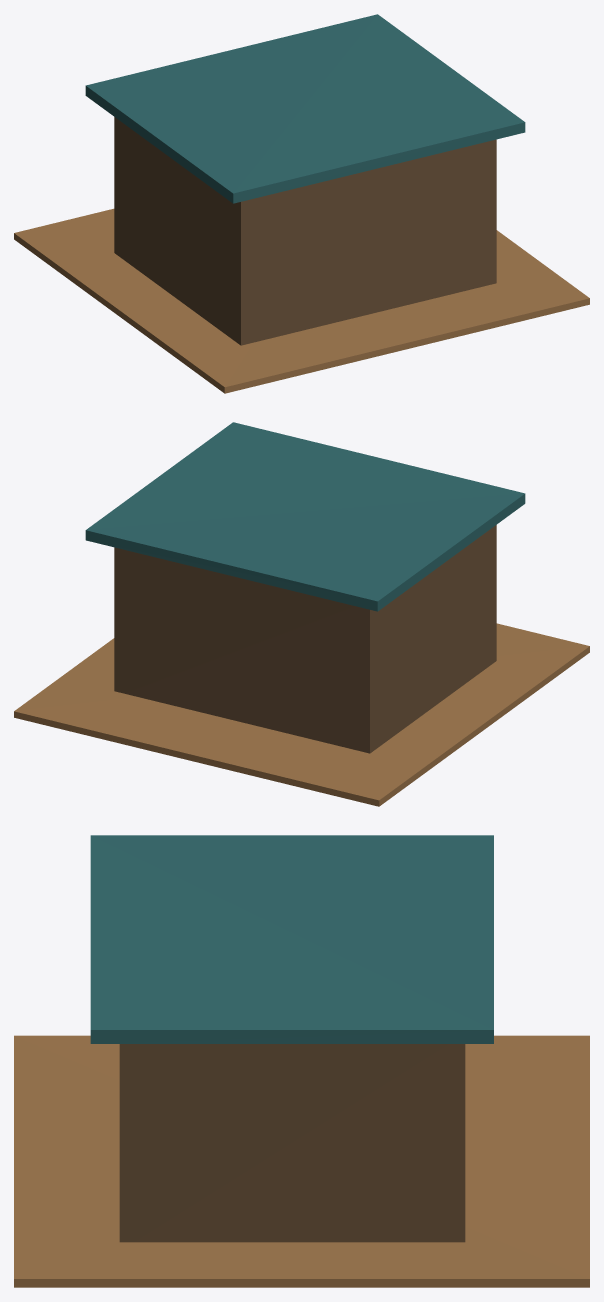
The model's file is Coastal-warehouse.glb.
3 renders of one model, top to bottom at view 1: azimuth 30°, elevation 25°; view 2: azimuth 150°, elevation 25°; view 3: azimuth 270°, elevation 25°, orthographic. The views are drawn at different scales.
Visible parts, largest first — view 1: coastal-warehouse-static-coastal-warehouse-wall, coastal-warehouse-static-coastal-warehouse-teal, coastal-warehouse-static-coastal-warehouse-earth; view 2: coastal-warehouse-static-coastal-warehouse-wall, coastal-warehouse-static-coastal-warehouse-teal, coastal-warehouse-static-coastal-warehouse-earth; view 3: coastal-warehouse-static-coastal-warehouse-teal, coastal-warehouse-static-coastal-warehouse-earth, coastal-warehouse-static-coastal-warehouse-wall.
Boxes of the visible parts, <box> form: coastal-warehouse-static-coastal-warehouse-wall: <box>114,117,496,345</box>; coastal-warehouse-static-coastal-warehouse-teal: <box>85,14,525,203</box>; coastal-warehouse-static-coastal-warehouse-earth: <box>14,208,589,393</box>; coastal-warehouse-static-coastal-warehouse-wall: <box>114,525,496,753</box>; coastal-warehouse-static-coastal-warehouse-teal: <box>85,422,525,611</box>; coastal-warehouse-static-coastal-warehouse-earth: <box>14,623,589,806</box>; coastal-warehouse-static-coastal-warehouse-teal: <box>90,835,493,1043</box>; coastal-warehouse-static-coastal-warehouse-earth: <box>14,1035,589,1287</box>; coastal-warehouse-static-coastal-warehouse-wall: <box>119,1044,465,1242</box>.
Size of the model in its own units: 6 by 2.68 by 6.
